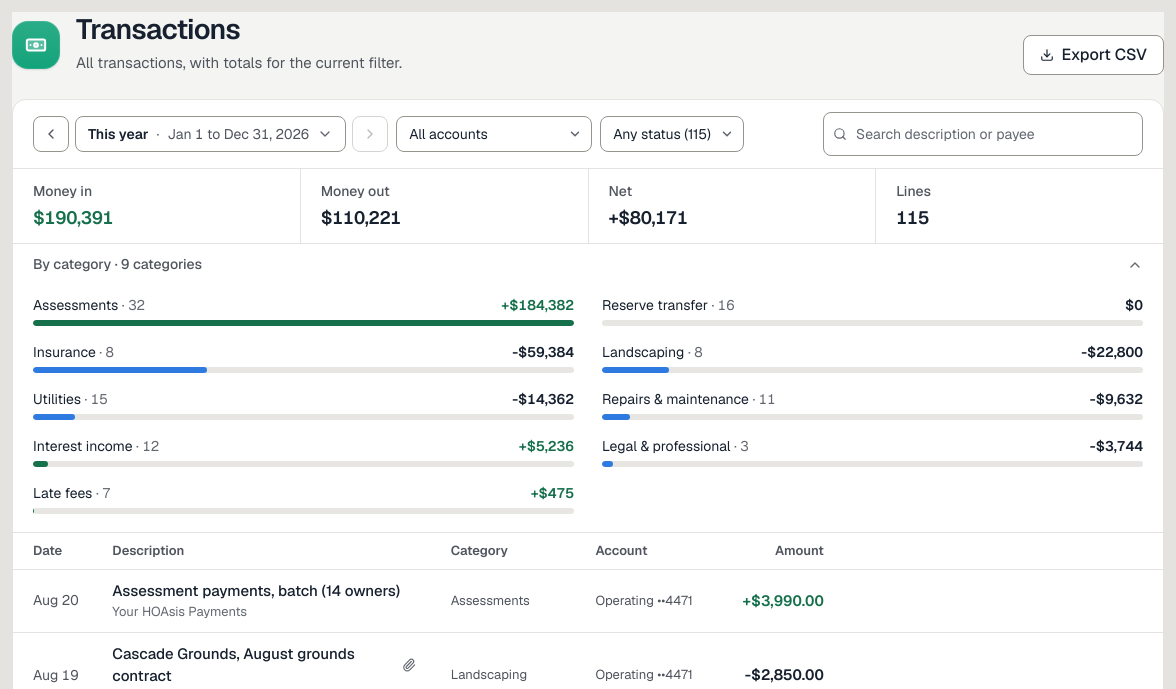
Scenario: Transactions filters › makes Money in and Money out the direction filter, with no separate switch
Step 1. Click the button "Money in $190,391" → {"x": 63, "y": 191}, box x1=13 y1=169 x2=300 y2=243
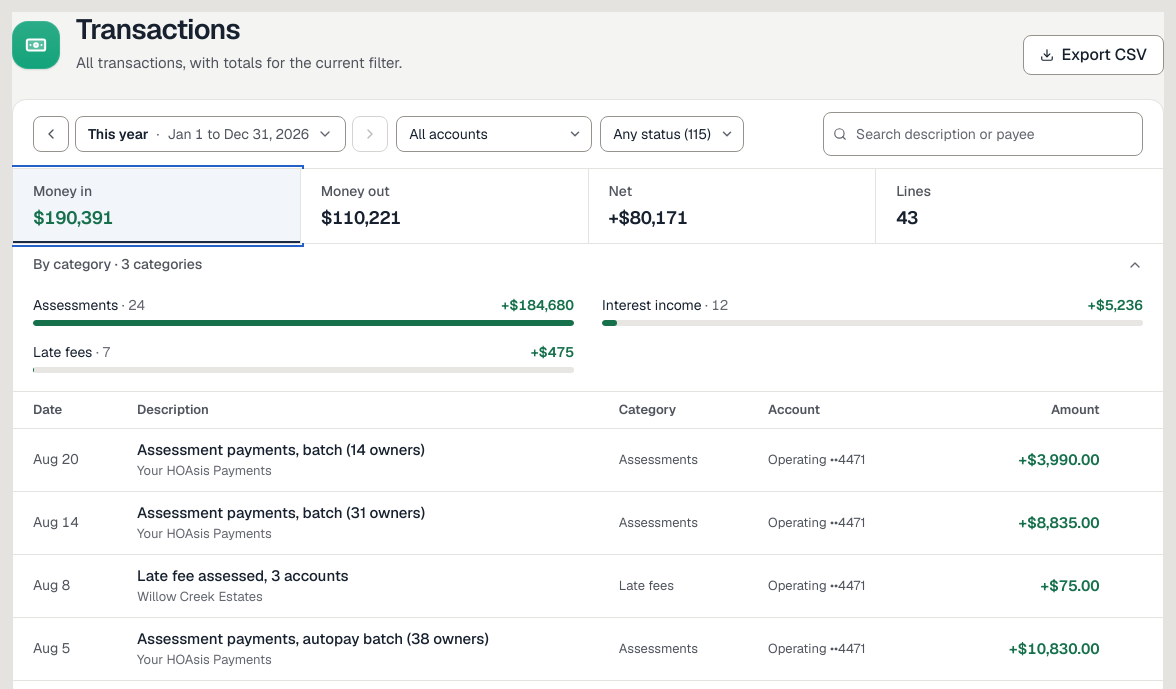
Step 2. Click the button "Money in $190,391" → {"x": 63, "y": 191}, box x1=13 y1=169 x2=300 y2=243
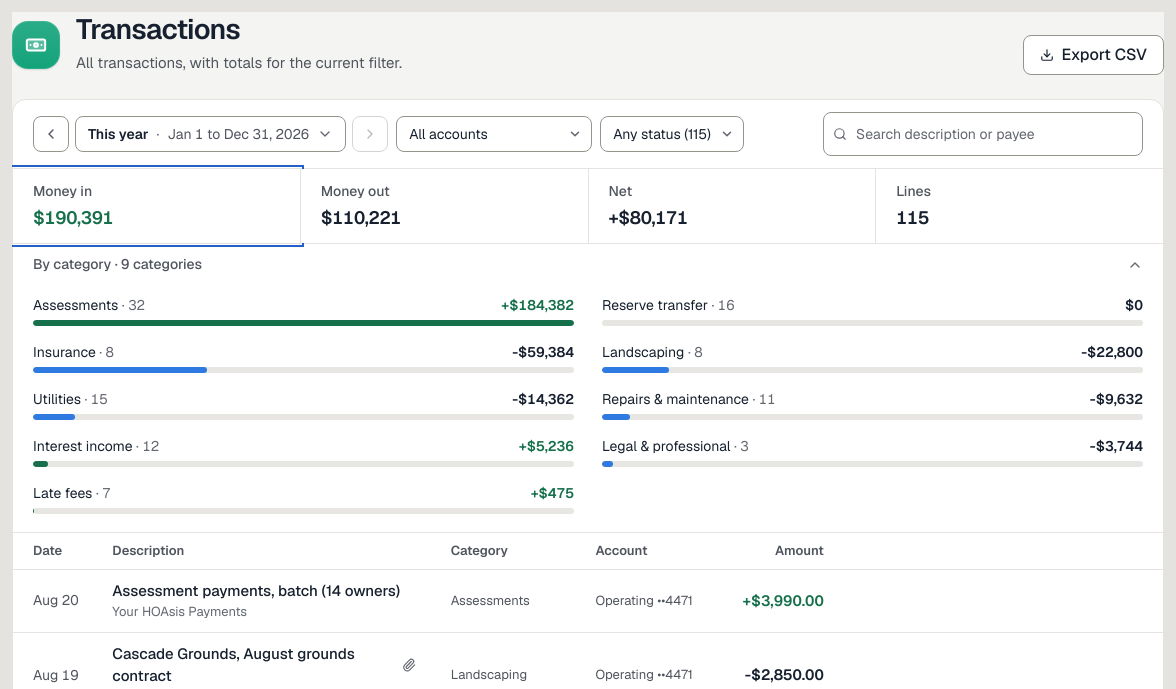
Check: the text "115" is shown, box x1=896 y1=206 x2=929 y2=229
